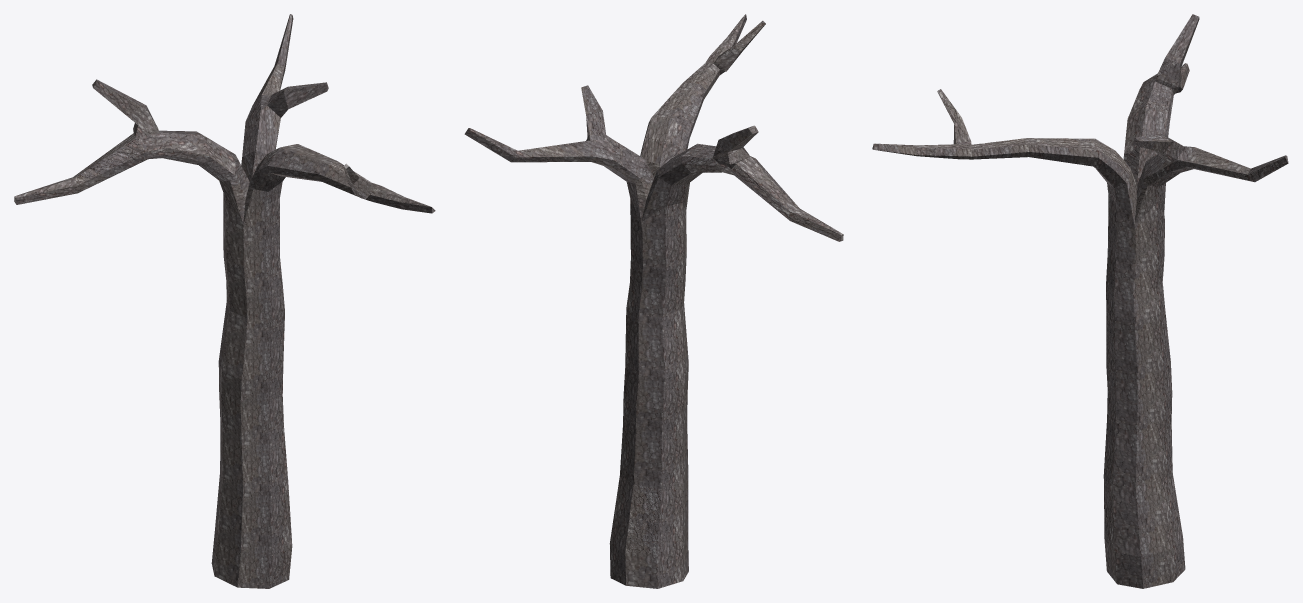
The model's file is Dead Tree Flat.fbx.
3 views of the same model, side by side, from view 1: azimuth 30°, elevation 25°; view 2: azimuth 150°, elevation 25°; view 3: azimuth 270°, elevation 25° (orthographic). The views are drawn at different scales.
Visible parts, largest first — view 1: Cylinder; view 2: Cylinder; view 3: Cylinder.
Part boxes in pixels (x1,y1,x2,y2): Cylinder: (14, 14, 435, 588); Cylinder: (464, 14, 843, 588); Cylinder: (872, 14, 1288, 588).
Size of the model in its own units: 1294 by 1896 by 1439.
Materials: 1 (1 with a texture image).
